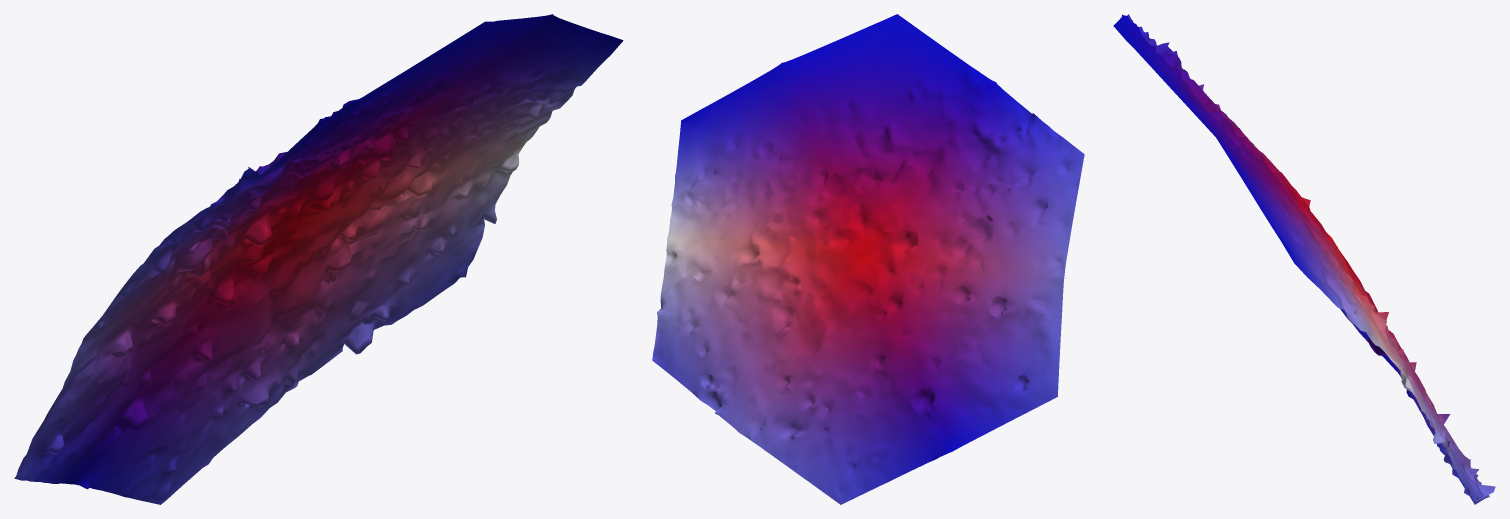
File: Hex_26.fbx
3 views of the same model, side by side, from view 1: azimuth 30°, elevation 25°; view 2: azimuth 150°, elevation 25°; view 3: azimuth 270°, elevation 25° (orthographic). The views are drawn at different scales.
Parts seen in each view (by area): view 1: Hex_26; view 2: Hex_26; view 3: Hex_26.
Boxes of the visible parts, x1,y1,x2,y2 form: Hex_26: (14,14,623,504); Hex_26: (652,14,1084,504); Hex_26: (1113,14,1495,504).
Size of the model in its own units: 459 by 439 by 288.
